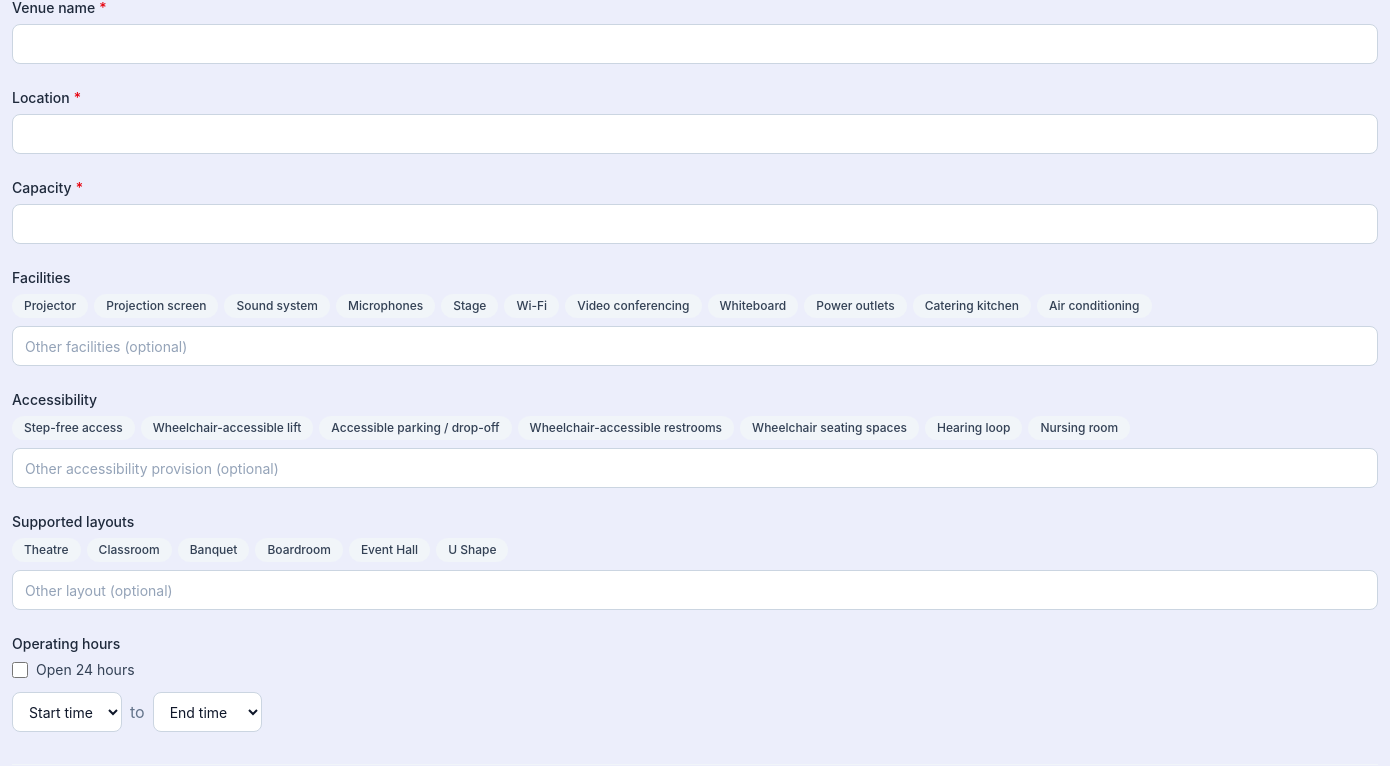
it: US-13: adding a venue › AC-3: keeps Publish disabled until the required fields are complete
Type "Sandbox Auditorium" into the field labelled "Venue name*".
click(695, 44); type("Sandbox Auditorium")  # box [12,24,1378,64]
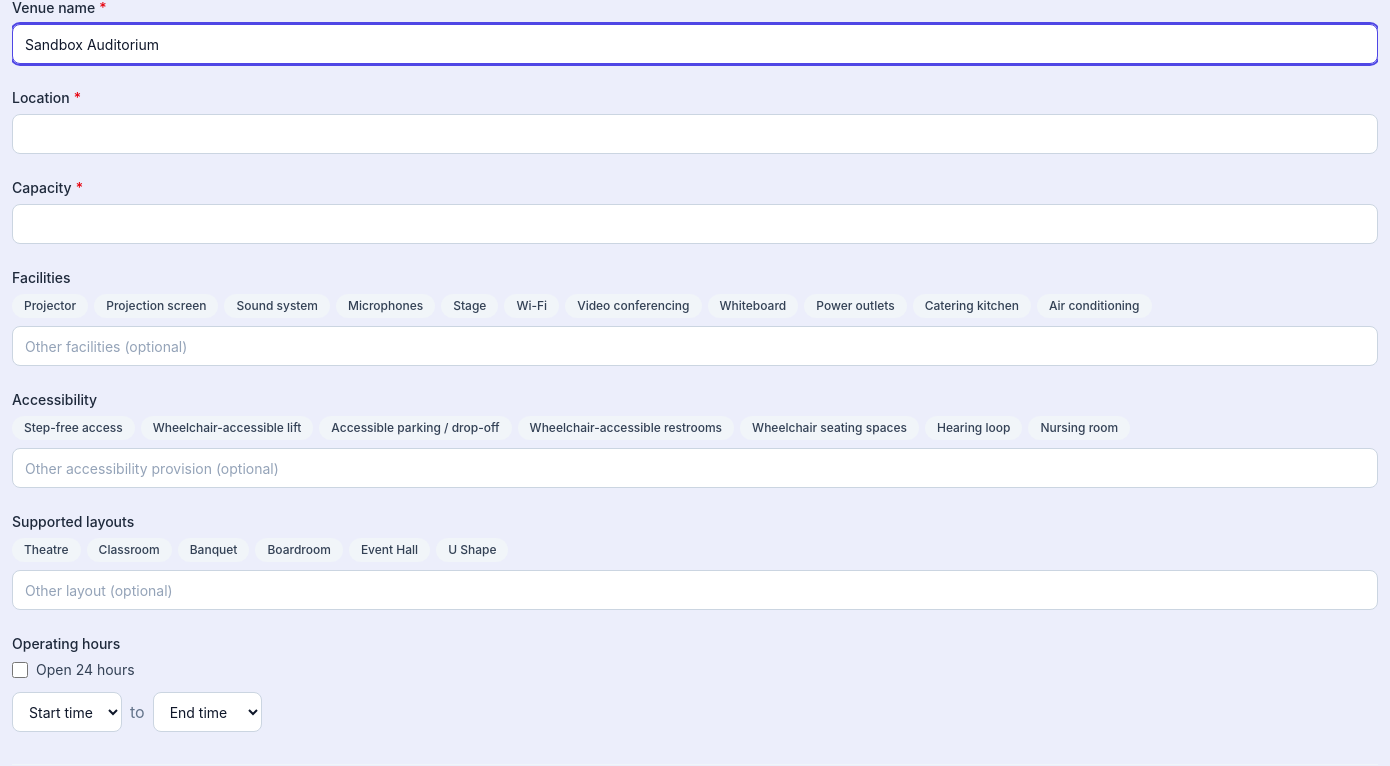
Type "Level 1" into the field labelled "Location*".
click(695, 134); type("Level 1")  # box [12,114,1378,154]
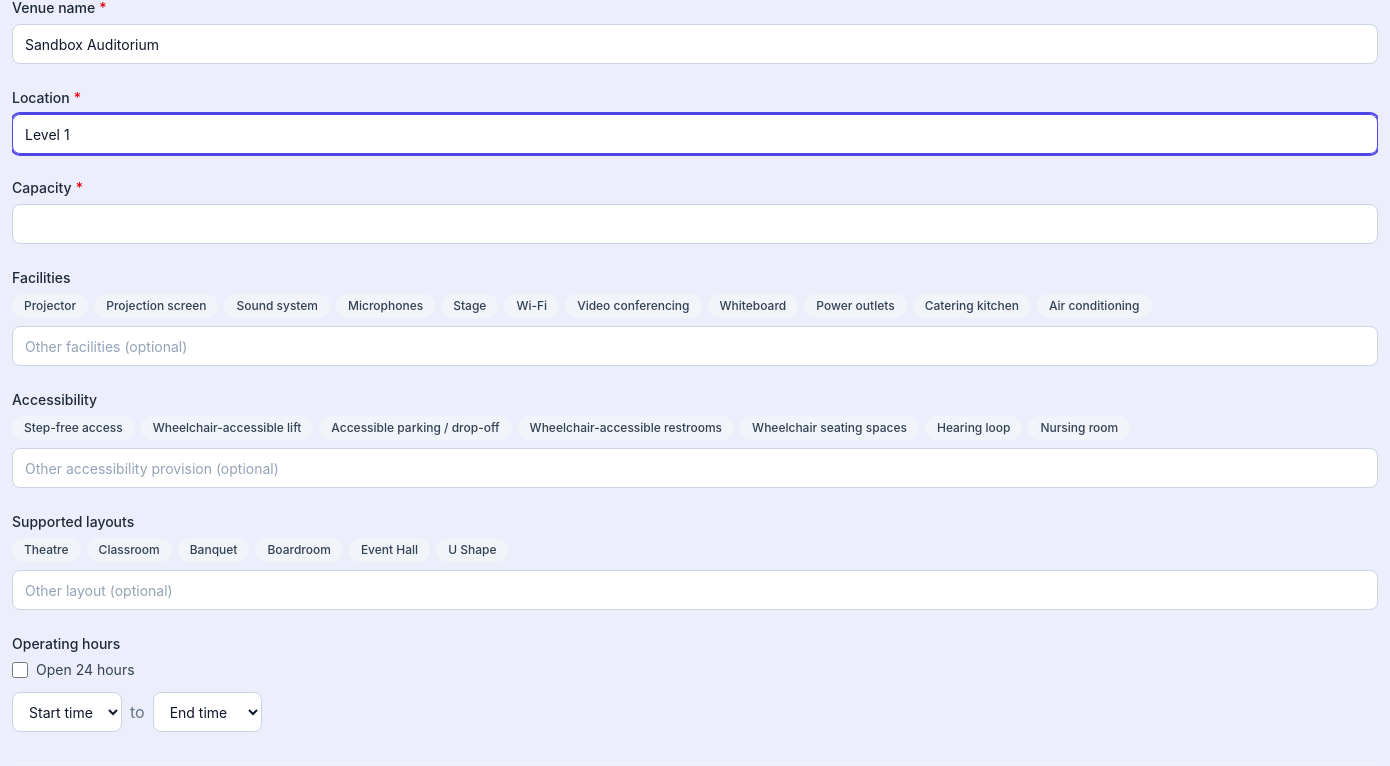
Type "420" into the number field labelled "Capacity*".
click(695, 224); type("420")  # box [12,204,1378,244]
(page scrolled)
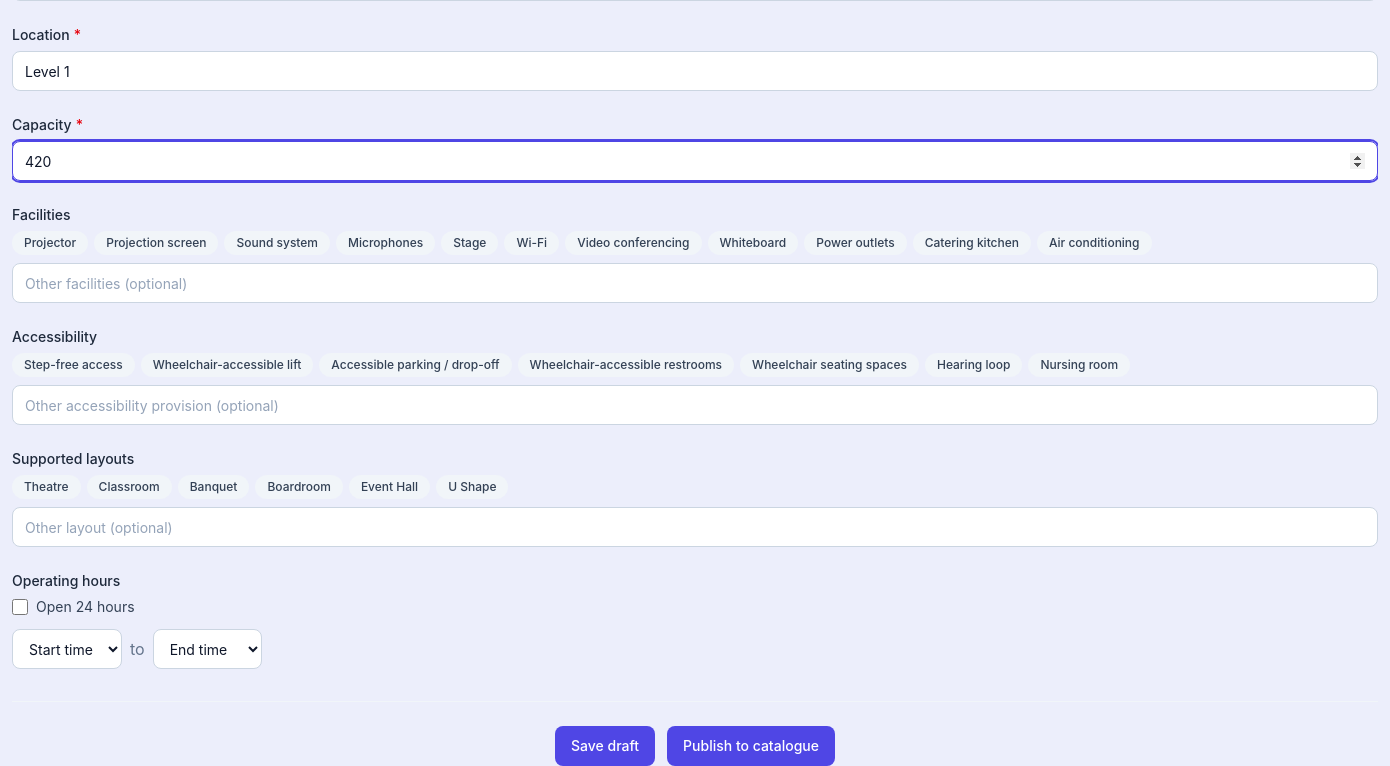
Now the button "Publish to catalogue" is enabled, box [667,726,835,765]
